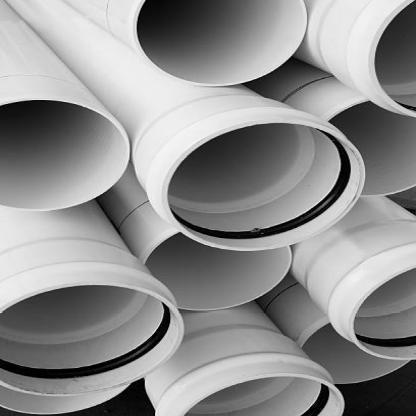pipe: (160, 122, 366, 252), (0, 282, 185, 396), (134, 0, 309, 86), (0, 99, 130, 212), (145, 230, 294, 312), (328, 95, 416, 202), (298, 315, 412, 387), (181, 374, 344, 416), (348, 265, 415, 360), (365, 0, 416, 113)
